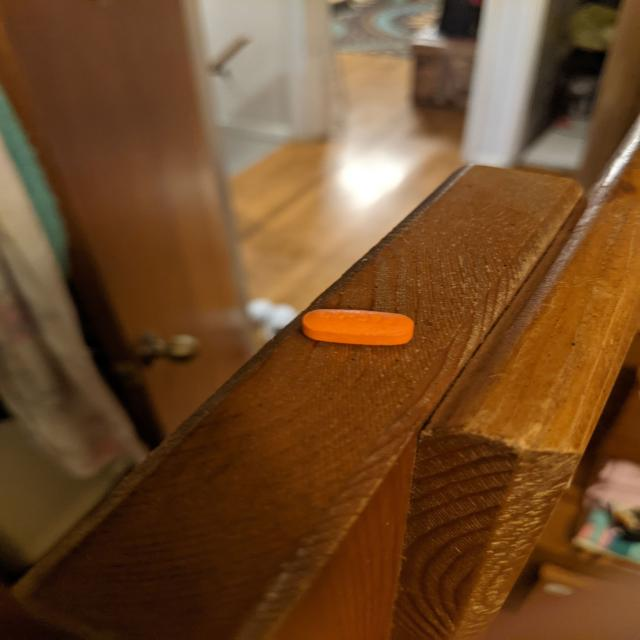non-organic waste: (299, 307, 415, 346)
